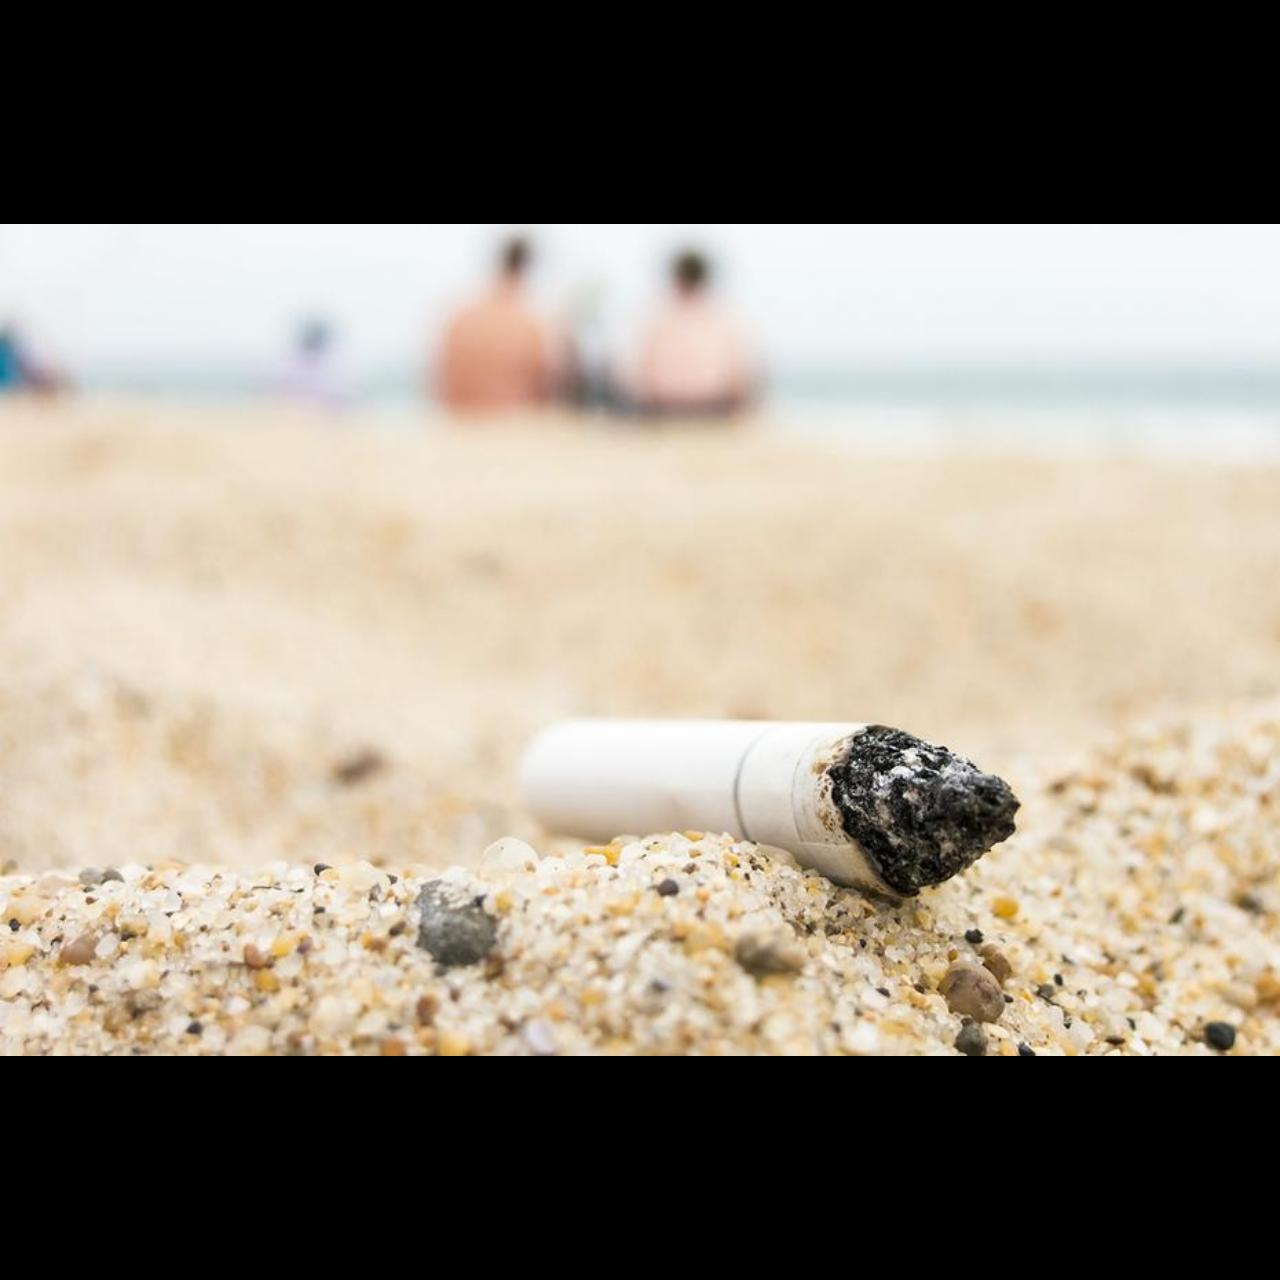cigarettes_butts: (516, 720, 1020, 903)
